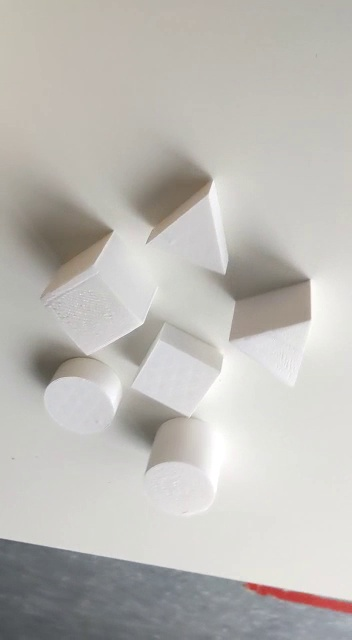Clyinder_short: (39, 354, 124, 440)
Cube: (32, 225, 163, 360)
Cube_short: (128, 321, 227, 419)
Cylinder: (145, 415, 220, 525)
Triangle: (220, 278, 313, 392)
Triangle_short: (141, 177, 234, 280)
